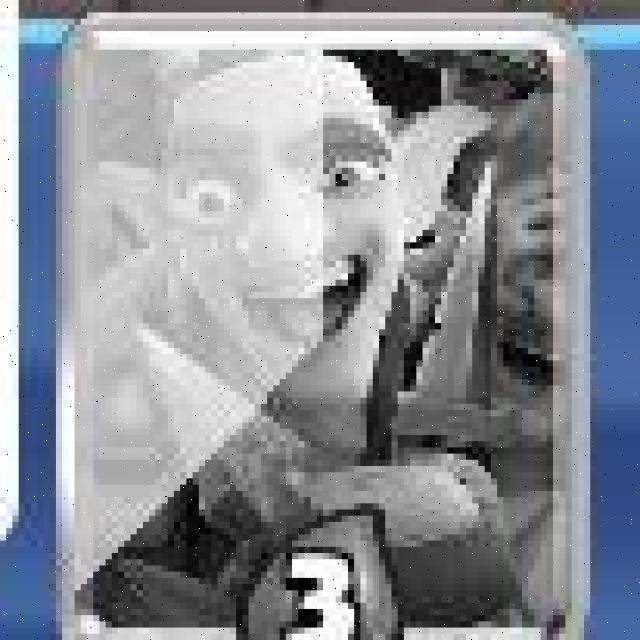Goblin_Gang: (51, 11, 596, 640)
